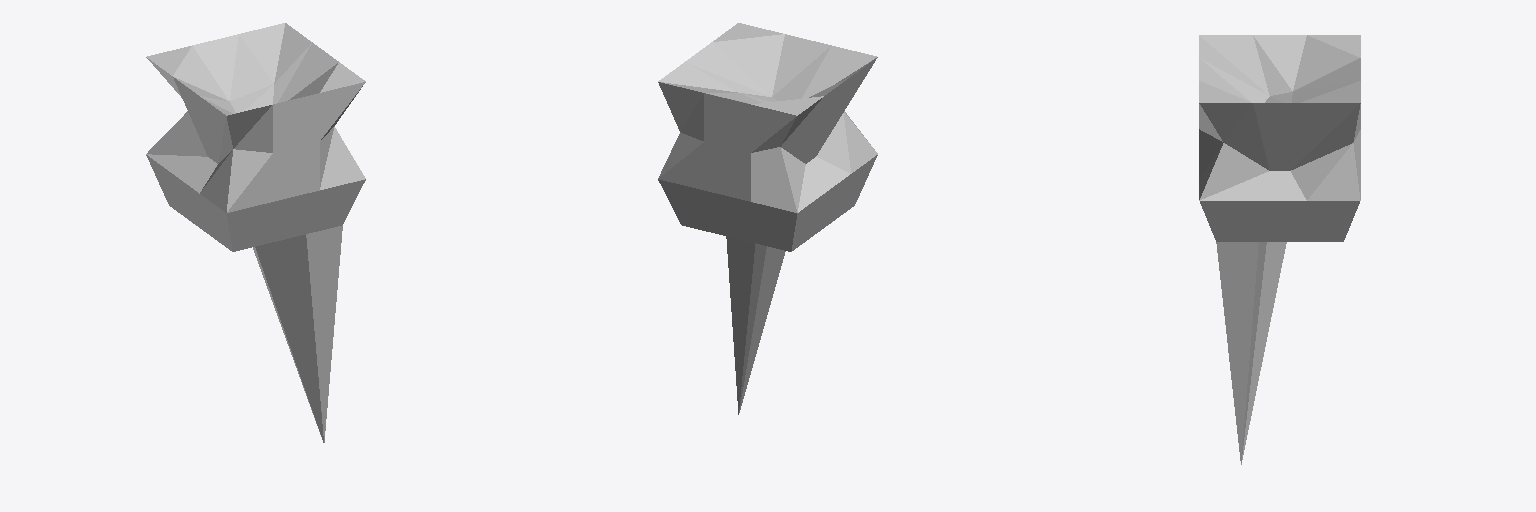
The model's file is molaire.obj.
The picture shows the model from 3 angles: view 1: azimuth 30°, elevation 25°; view 2: azimuth 150°, elevation 25°; view 3: azimuth 270°, elevation 25°; orthographic projection.
Visible parts, largest first — view 1: pCube1; view 2: pCube1; view 3: pCube1.
Part boxes in pixels (left/top/right/bottom): pCube1: left=146, top=23, right=365, bottom=442; pCube1: left=658, top=23, right=877, bottom=414; pCube1: left=1199, top=35, right=1360, bottom=464.
Size of the model in its own units: 1 by 2.56 by 1.